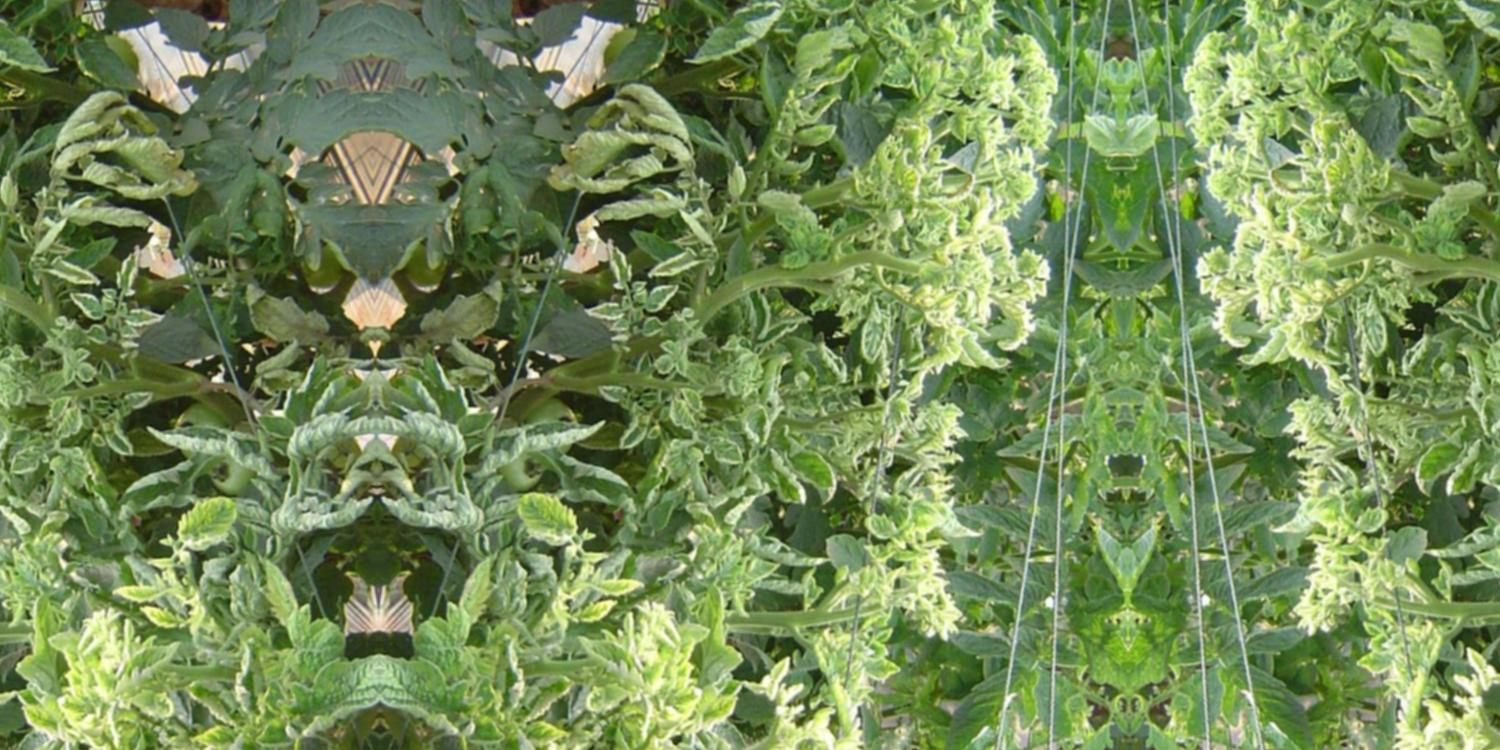Tomato leaf yellow virus: (379, 646, 470, 740), (762, 181, 844, 279), (689, 0, 782, 66), (521, 489, 582, 544), (621, 636, 688, 681), (783, 440, 835, 497), (616, 272, 681, 313), (738, 393, 773, 451), (647, 705, 698, 740), (661, 394, 699, 439), (616, 415, 647, 450), (579, 386, 644, 402), (630, 322, 667, 342), (648, 353, 680, 375)
